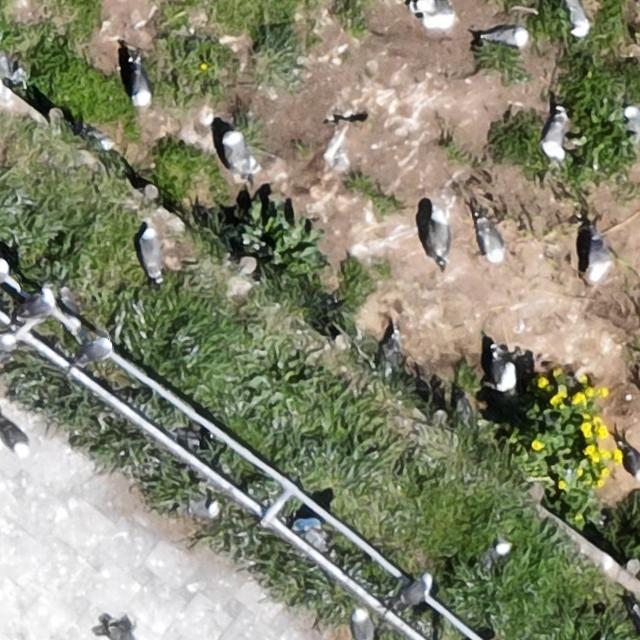umineko: (584, 222, 612, 282), (224, 130, 255, 182), (140, 225, 164, 282), (413, 1, 456, 32), (431, 205, 453, 264), (395, 575, 436, 605), (19, 282, 53, 318), (492, 344, 516, 391), (1, 421, 30, 457), (480, 225, 502, 262), (131, 64, 150, 106), (544, 117, 564, 156), (488, 27, 528, 46), (189, 501, 224, 520), (570, 3, 590, 36), (84, 129, 113, 150), (86, 336, 113, 358), (354, 607, 371, 639), (625, 450, 639, 483), (490, 540, 511, 562), (60, 290, 79, 314), (624, 106, 639, 132), (1, 333, 15, 354)
